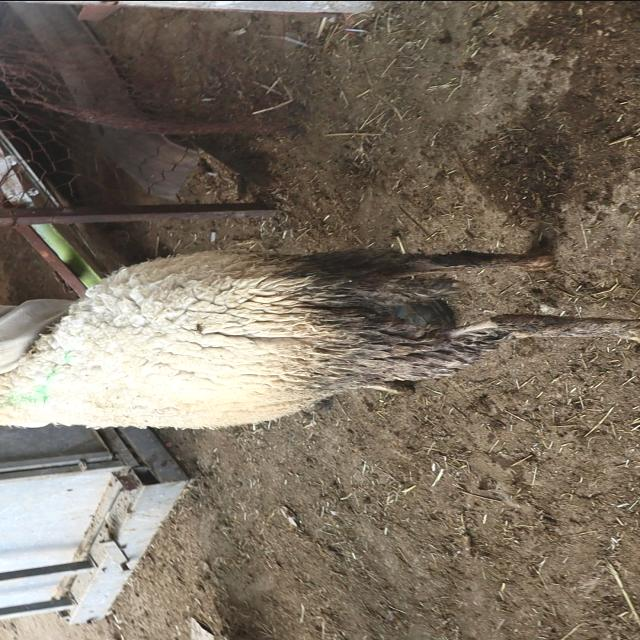Score_4: (0, 248, 639, 428)
